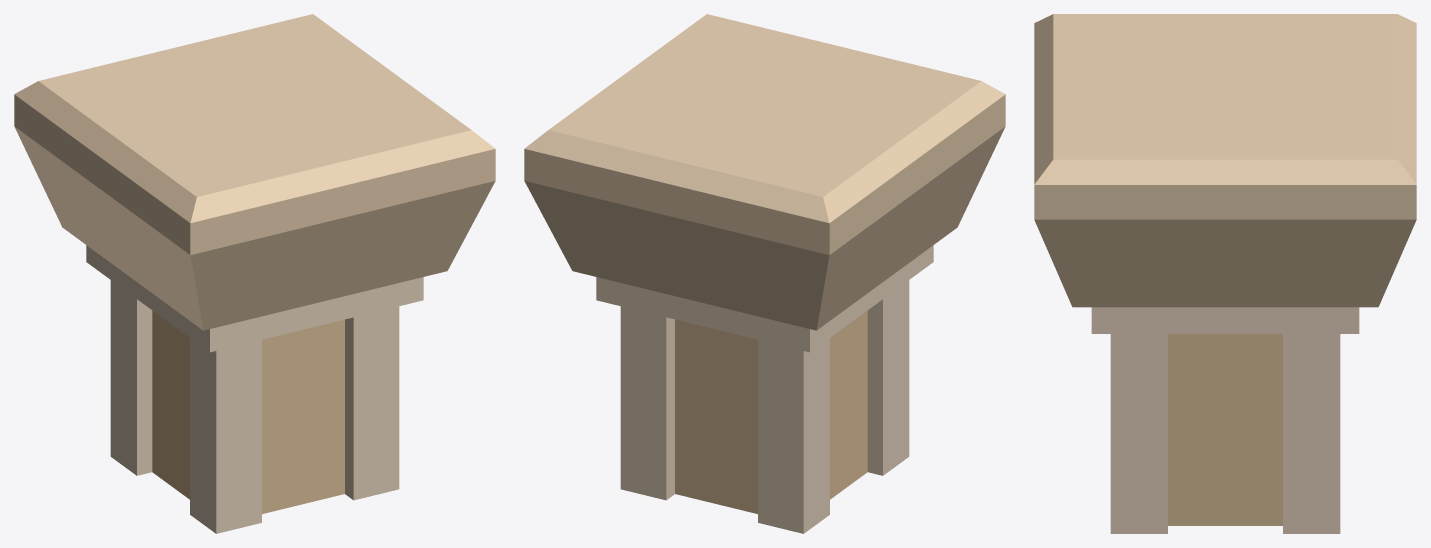
File: temple_Pillar_Large_Top.glb
The picture shows the model from 3 angles, left to right: view 1: azimuth 30°, elevation 25°; view 2: azimuth 150°, elevation 25°; view 3: azimuth 270°, elevation 25°; orthographic projection. The views are drawn at different scales.
Visible parts, largest first — view 1: object1; view 2: object1; view 3: object1.
Boxes of the visible parts, x1,y1,x2,y2 form: object1: [14, 14, 495, 533]; object1: [524, 14, 1005, 533]; object1: [1034, 14, 1416, 533].
Size of the model in its own units: 1 by 1.15 by 1.
